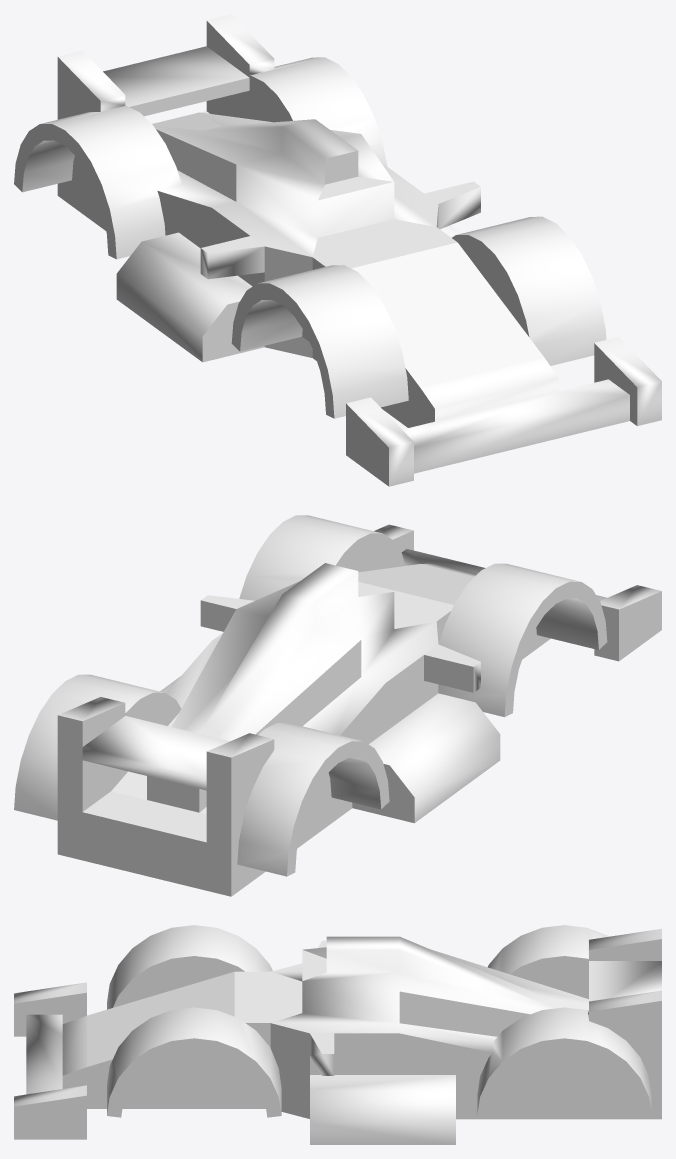
The model's file is fe-vehicle.glb.
3 renders of one model, top to bottom at view 1: azimuth 30°, elevation 25°; view 2: azimuth 150°, elevation 25°; view 3: azimuth 270°, elevation 25°, orthographic. The views are drawn at different scales.
Parts seen in each view (by area): view 1: fe-vehicle; view 2: fe-vehicle; view 3: fe-vehicle.
Part boxes in pixels (box(x1,y1,x2,y2)): fe-vehicle: box(14, 14, 661, 486); fe-vehicle: box(14, 515, 661, 896); fe-vehicle: box(14, 925, 661, 1144).
Size of the model in its own units: 1.2 by 0.6325 by 2.66.
Materials: 1 (1 with a texture image).
